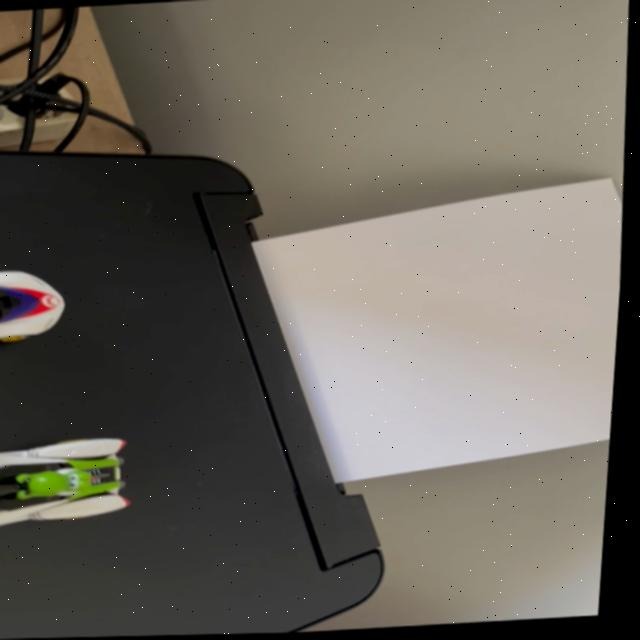mario: (0, 257, 92, 356)
yoshi: (0, 430, 164, 544)
